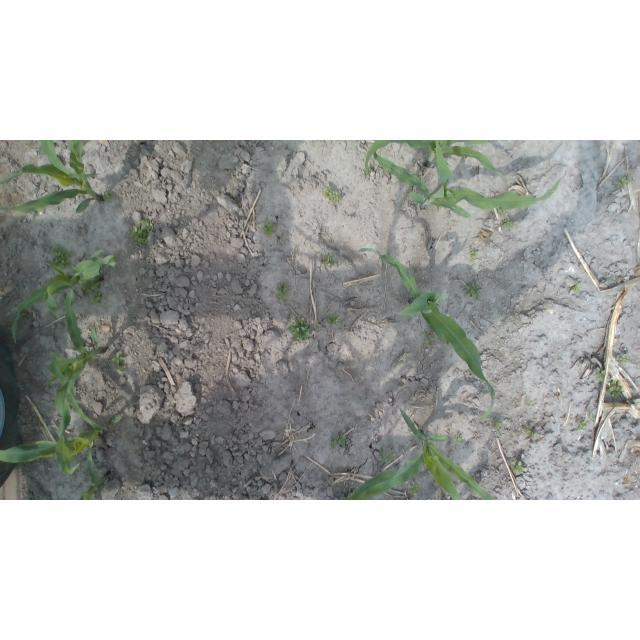Maize: (355, 246, 496, 422), (344, 407, 498, 500), (370, 149, 563, 220), (41, 289, 108, 477), (11, 250, 115, 343), (0, 141, 104, 217), (366, 142, 499, 201), (1, 414, 124, 476), (80, 443, 110, 500)
Weeds: (595, 366, 625, 400), (83, 277, 106, 308), (129, 222, 154, 247), (290, 318, 310, 343), (52, 246, 72, 267), (323, 186, 341, 204), (576, 414, 594, 432), (466, 282, 482, 300), (331, 432, 347, 450), (509, 460, 527, 476), (379, 446, 393, 466), (319, 252, 335, 268), (275, 283, 289, 301), (111, 353, 126, 368), (423, 333, 436, 348), (326, 314, 340, 327), (617, 353, 630, 366), (496, 421, 505, 438), (265, 224, 276, 237), (619, 177, 630, 188), (525, 428, 538, 436), (393, 359, 406, 367), (470, 248, 478, 260), (454, 433, 464, 442), (573, 283, 582, 292), (505, 219, 514, 226), (528, 400, 535, 407), (634, 398, 640, 406)
